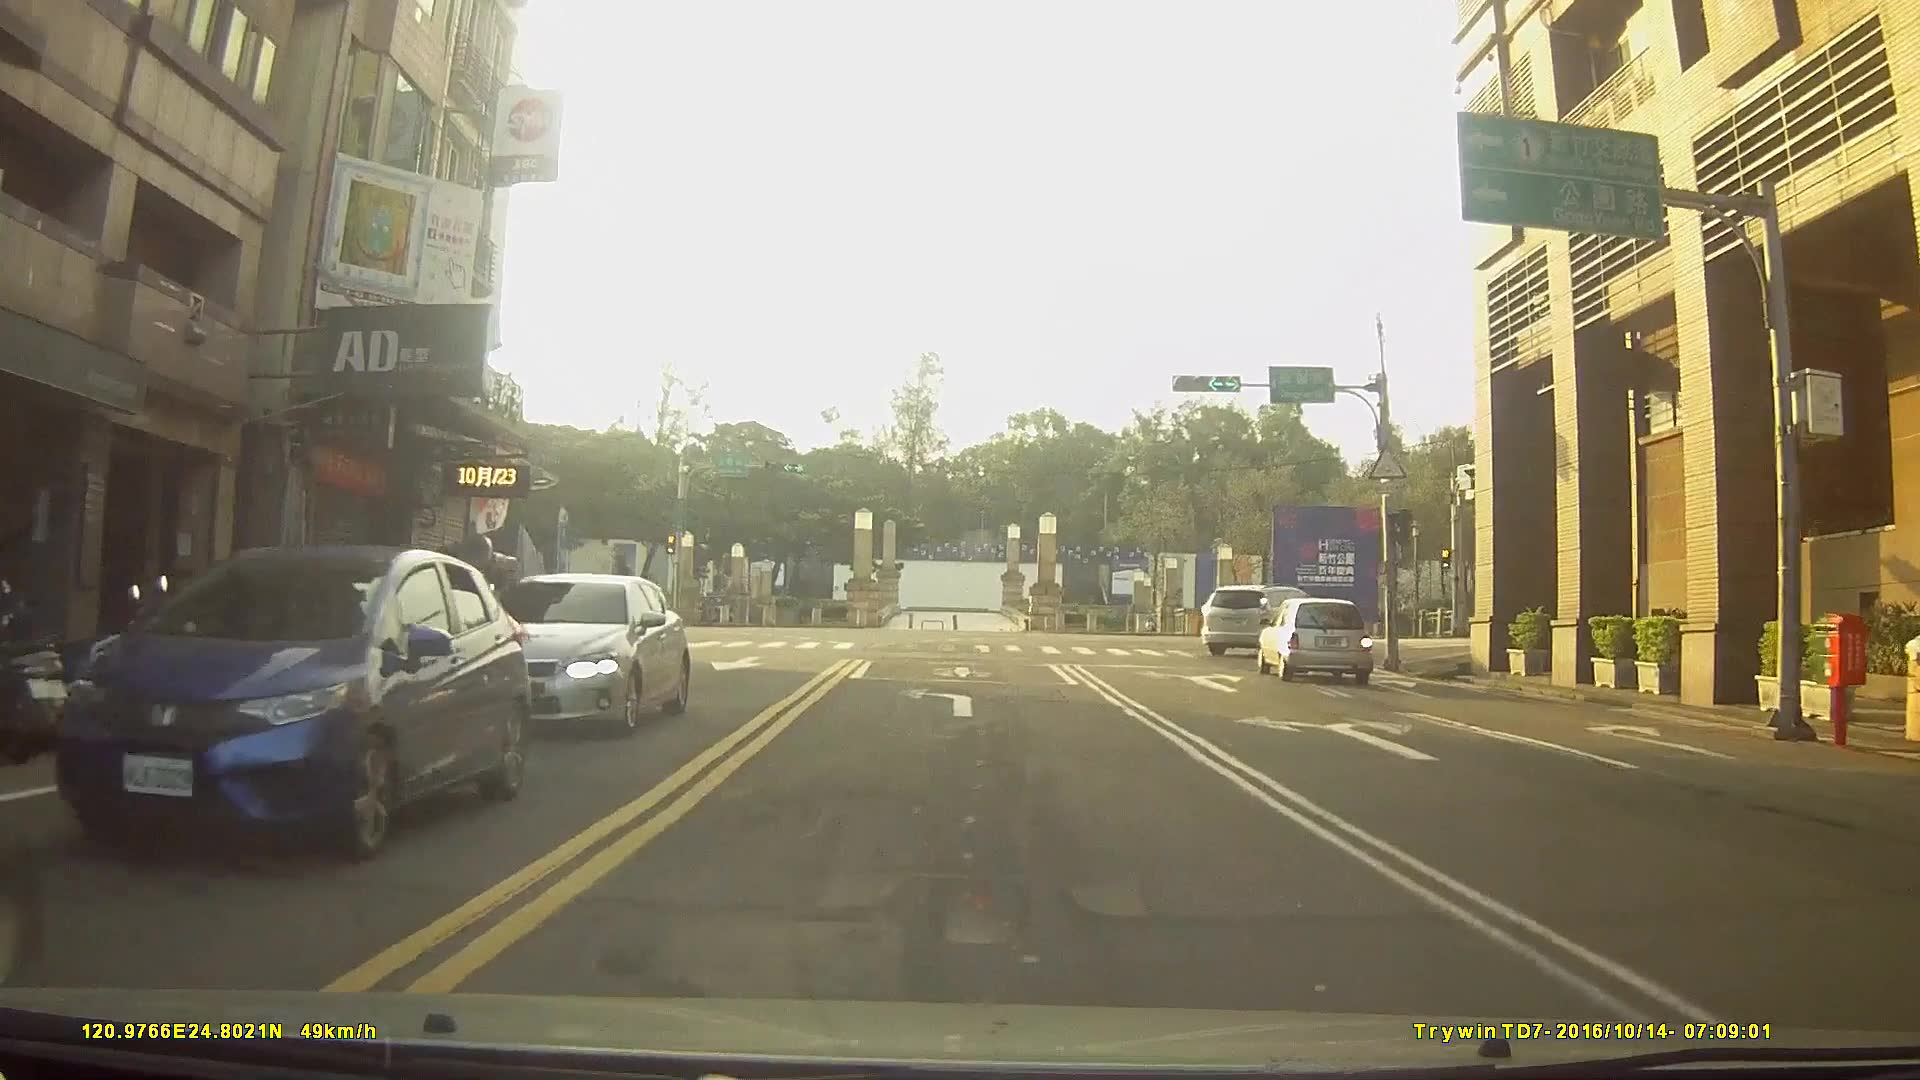vehicle: (50, 542, 526, 866), (465, 574, 687, 737), (1199, 583, 1331, 657), (1258, 596, 1373, 680)
